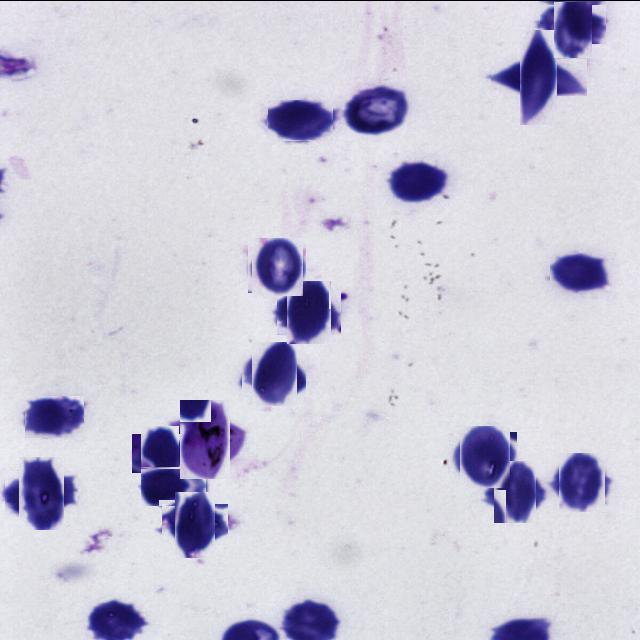gametocyte: (172, 407, 238, 471)
red blood cell: (506, 43, 572, 110), (12, 463, 72, 522), (458, 428, 514, 484), (345, 84, 410, 132), (246, 346, 302, 400), (250, 238, 304, 294), (168, 496, 222, 550), (282, 285, 336, 339), (556, 455, 608, 508), (387, 158, 448, 203), (267, 99, 333, 140), (489, 464, 541, 516), (140, 466, 207, 506), (546, 0, 599, 50), (24, 395, 84, 438), (550, 252, 612, 292), (136, 429, 184, 476)
